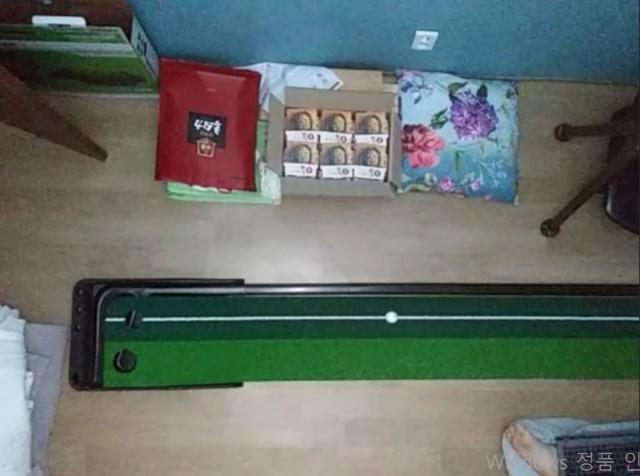golf_ball: (385, 311, 398, 325)
green_zone: (105, 296, 639, 386)
hole: (112, 348, 137, 374), (125, 309, 143, 329)
